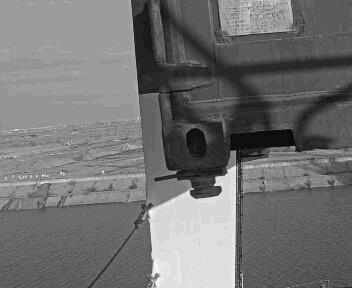twist_lock_1: (169, 163, 229, 204)
